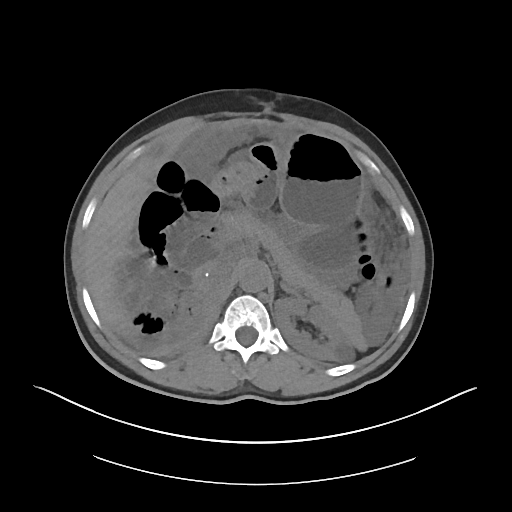Lesion: (332, 338, 360, 366)
